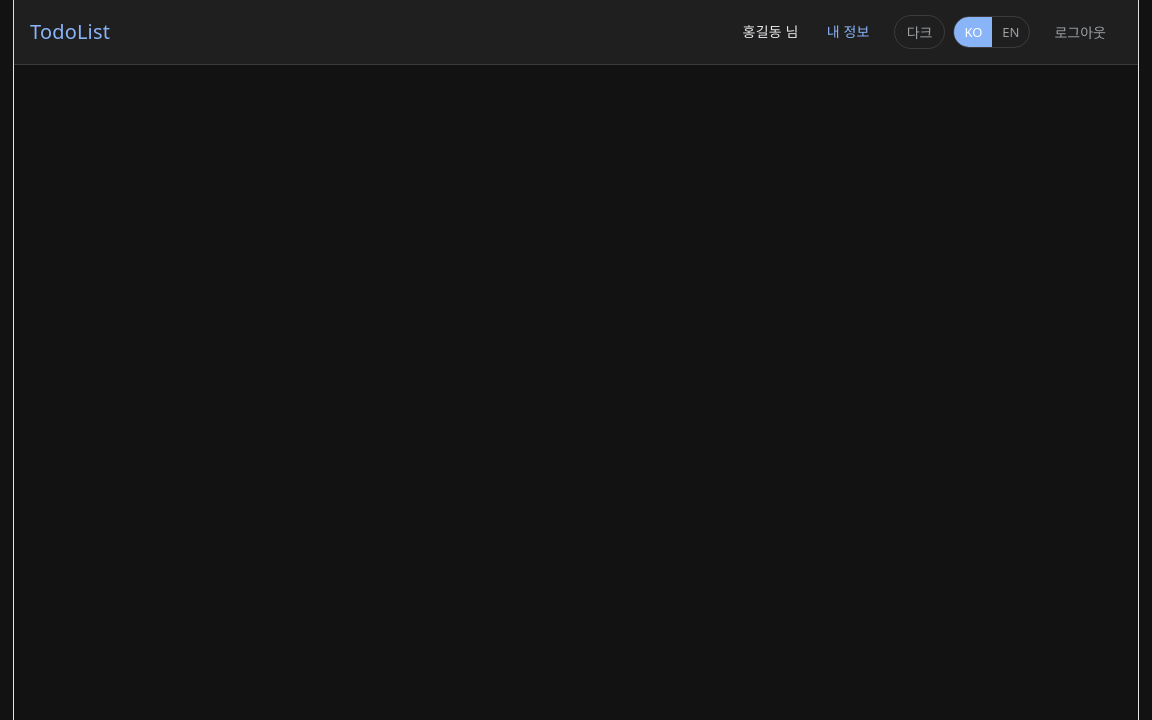
Test: Header — 테마 토글 › API 저장 실패 시 에러 메시지를 표시한다
Click the button with aria-label "다크 모드로 전환" at (920, 32), box [894,15,945,49]
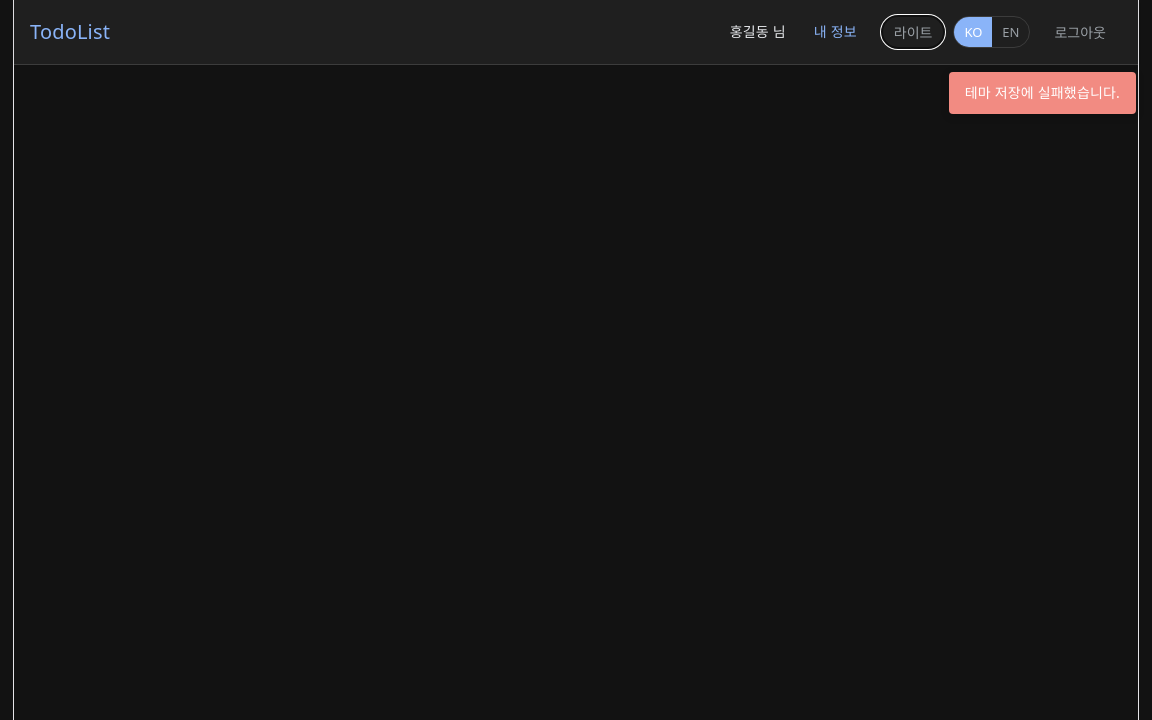
Check: the text "테마 저장에 실패했습니다." is shown, box [949,72,1136,114]
